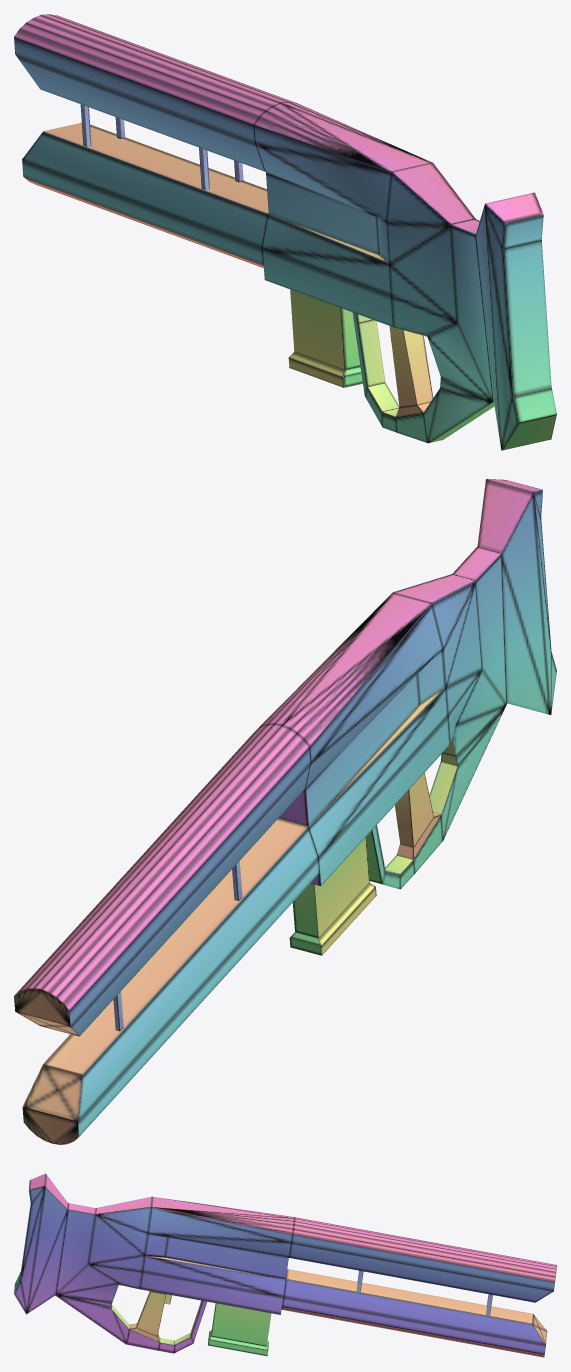
Rendered from railgun.obj.
3 views of the same model, one above another, from view 1: azimuth 30°, elevation 25°; view 2: azimuth 150°, elevation 25°; view 3: azimuth 270°, elevation 25° (orthographic). The views are drawn at different scales.
Parts seen in each view (by area): view 1: railgun_Reciever; view 2: railgun_Reciever; view 3: railgun_Reciever.
Boxes of the visible parts, bbox=[...] form: railgun_Reciever: bbox=[14, 14, 556, 450]; railgun_Reciever: bbox=[14, 479, 556, 1144]; railgun_Reciever: bbox=[14, 1173, 556, 1357].
Bounding box in the file's own units: 0.0676 × 0.3657 × 1.02.
